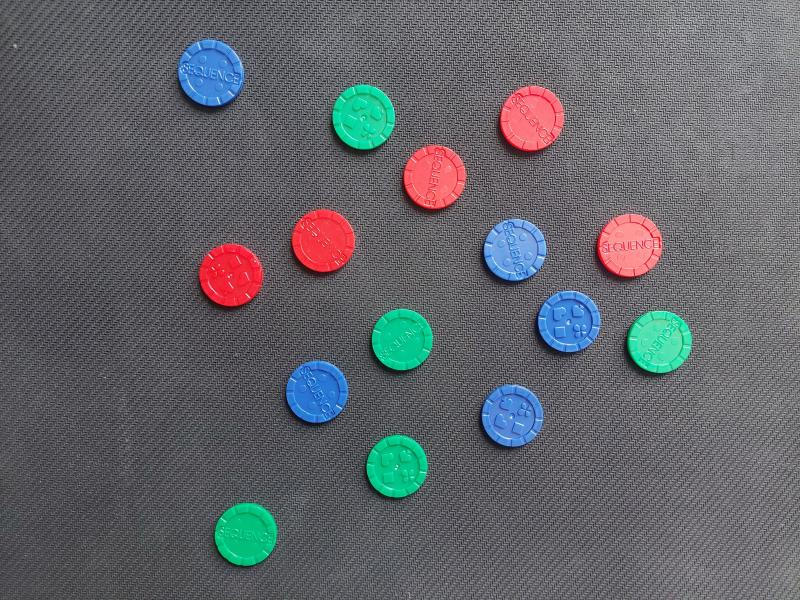Blue_Token: (171, 26, 250, 127), (476, 371, 564, 459), (535, 279, 612, 362), (479, 213, 555, 295), (282, 358, 362, 430)
Green_Token: (349, 298, 455, 377), (358, 433, 461, 509), (316, 71, 404, 156), (623, 303, 696, 379), (206, 494, 282, 565)
Red_Token: (490, 68, 574, 170), (581, 210, 686, 284), (391, 141, 473, 221), (284, 199, 360, 278), (199, 236, 268, 312)
